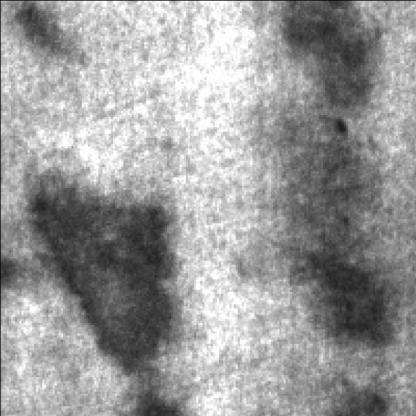patches: (25, 181, 171, 401), (287, 227, 387, 343), (270, 0, 374, 108), (14, 0, 54, 46)
